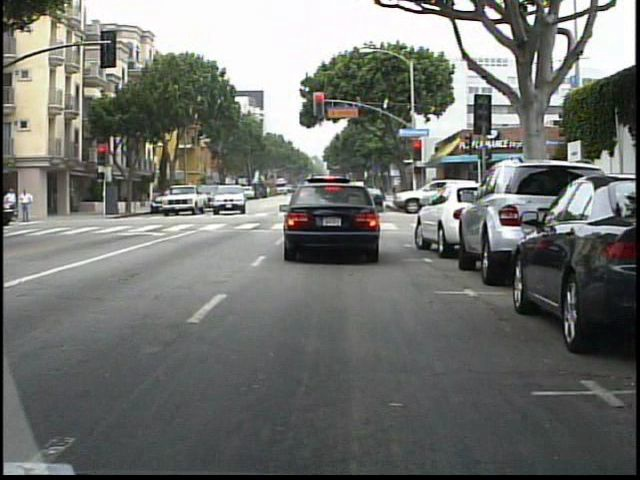person: (19, 185, 36, 224), (3, 185, 19, 210)
